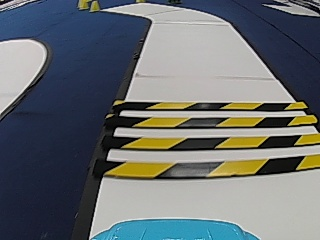bump: (100, 93, 319, 185)
